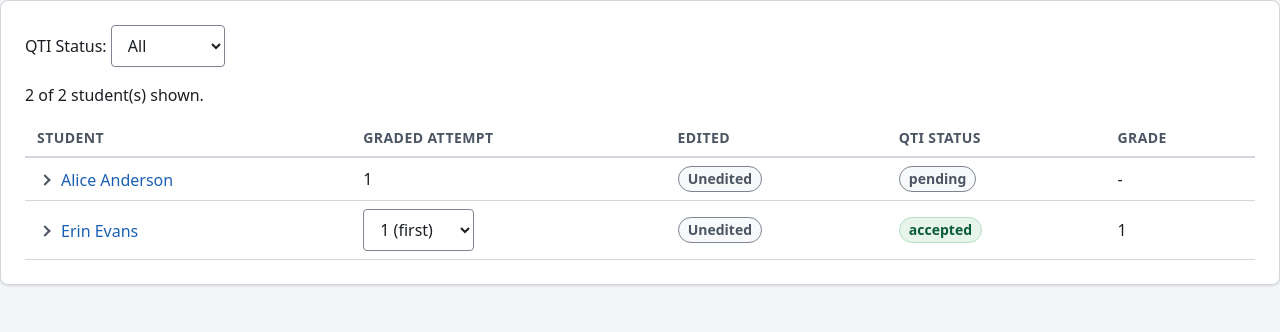
Test: Queue: multiple attempts per student (Planned rework item 6) › warns when an accepted attempt isn't the one selected for grading
Select "2" in the dropdown named "attempt for erin evans" at coordinates (419, 230), box [363,209,474,251]
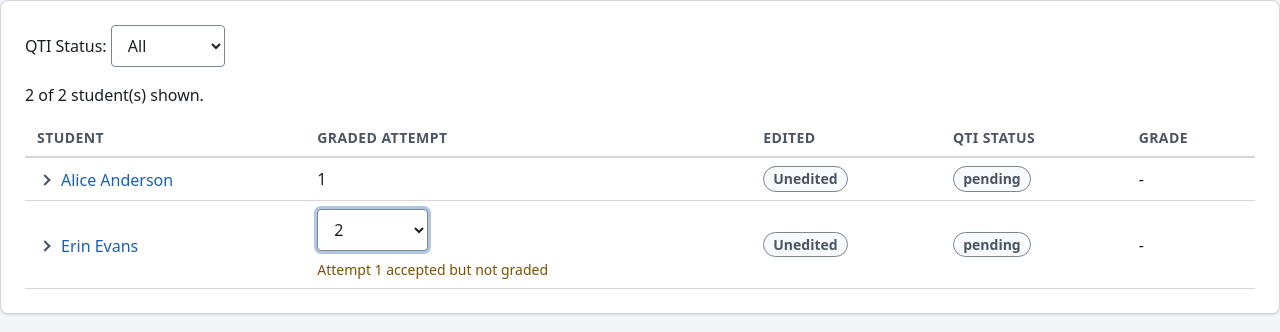
Expected: the text "Attempt 1 accepted but not graded" is shown, [317,260,548,279]
